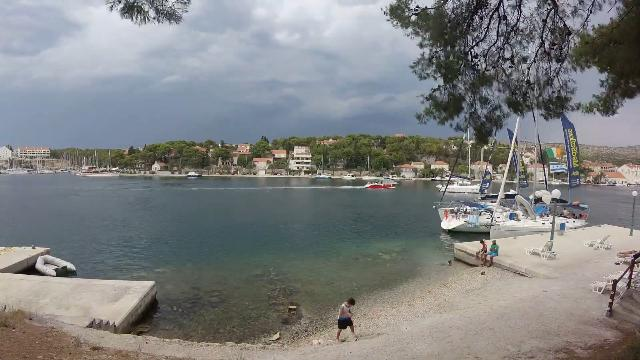speedboat: (362, 175, 402, 191)
